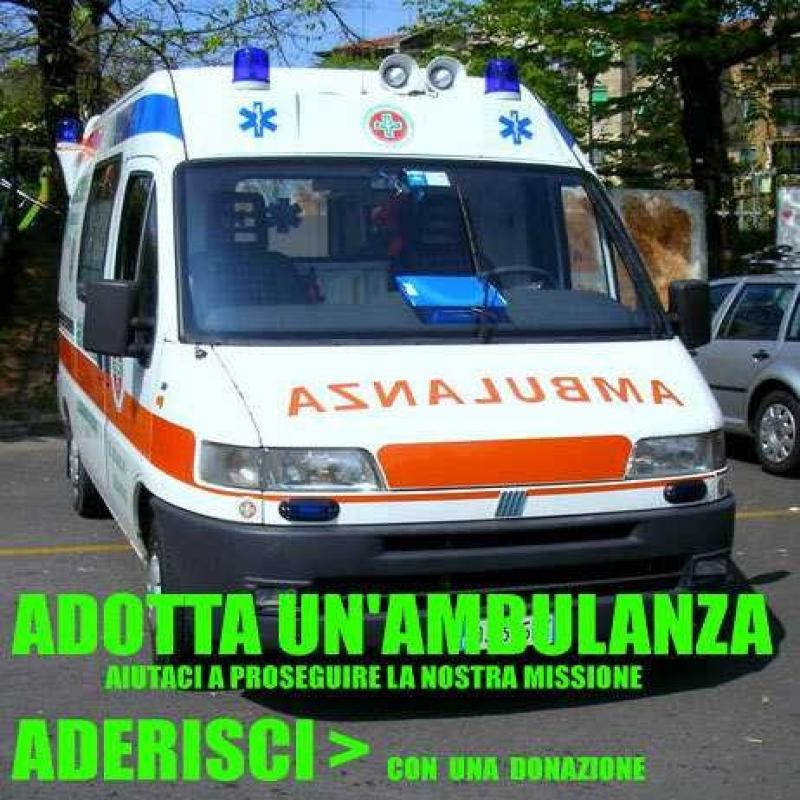AmbulanceSiren: (458, 18, 535, 124), (217, 20, 282, 111)
ambulance: (66, 41, 716, 697)
